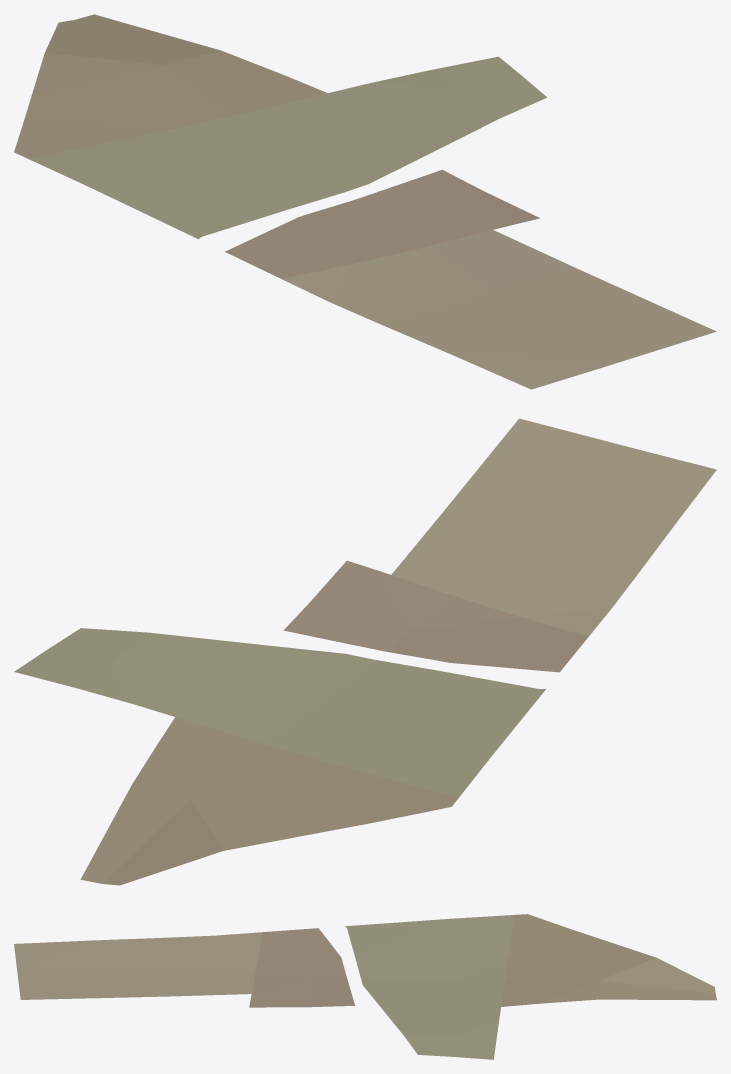
File: farm_8_19_soil.glb
The picture shows the model from 3 angles, top to bottom: view 1: azimuth 30°, elevation 25°; view 2: azimuth 150°, elevation 25°; view 3: azimuth 270°, elevation 25°; orthographic projection. The views are drawn at different scales.
Visible parts, largest first — view 1: geometry_0; view 2: geometry_0; view 3: geometry_0.
Boxes of the visible parts, x1,y1,x2,y2 form: geometry_0: [14, 14, 716, 389]; geometry_0: [14, 418, 716, 885]; geometry_0: [14, 914, 716, 1059].
Size of the model in its own units: 194 by 18.73 by 390.
